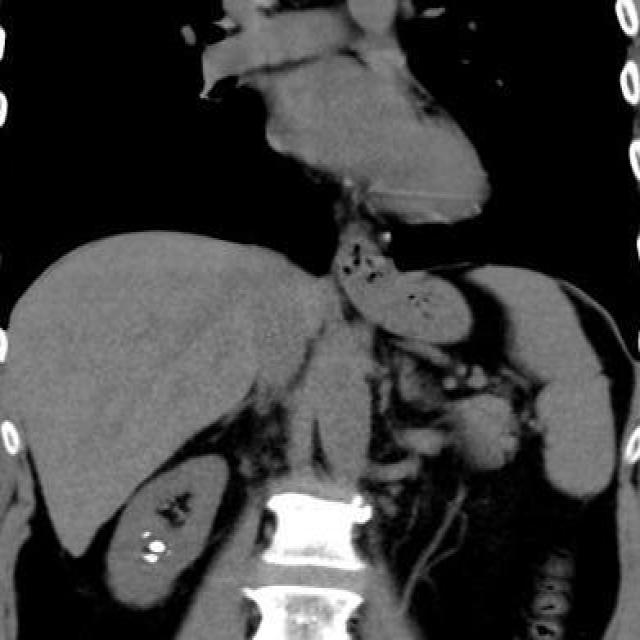Tas_Var: (143, 539, 166, 555), (138, 551, 160, 565), (138, 529, 153, 539), (166, 549, 173, 555)
